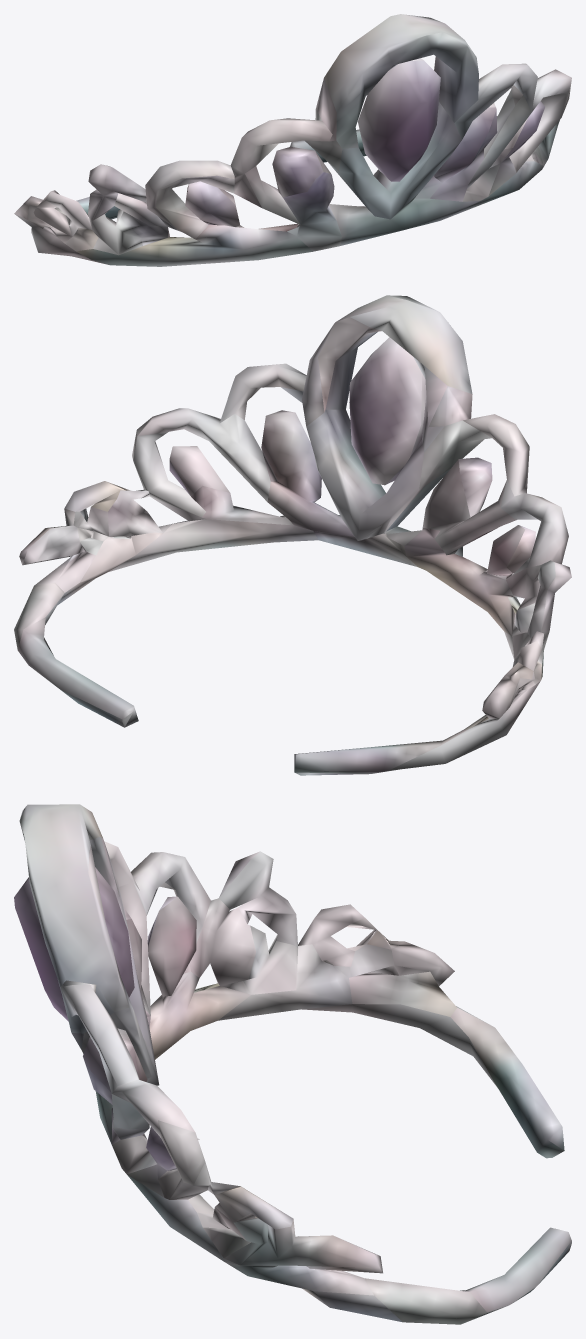
The picture shows the model from 3 angles, top to bottom: view 1: azimuth 30°, elevation 25°; view 2: azimuth 150°, elevation 25°; view 3: azimuth 270°, elevation 25°; orthographic projection. The views are drawn at different scales.
Parts seen in each view (by area): view 1: Silver-Tiara-03; view 2: Silver-Tiara-03; view 3: Silver-Tiara-03.
Boxes of the visible parts, x1=… form: Silver-Tiara-03: x1=14, y1=14, x2=571, y2=266; Silver-Tiara-03: x1=14, y1=295, x2=571, y2=775; Silver-Tiara-03: x1=14, y1=804, x2=571, y2=1324.
Bounding box in the file's own units: 0.3047 × 0.1768 × 0.2192.
Materials: 1 (1 with a texture image).
